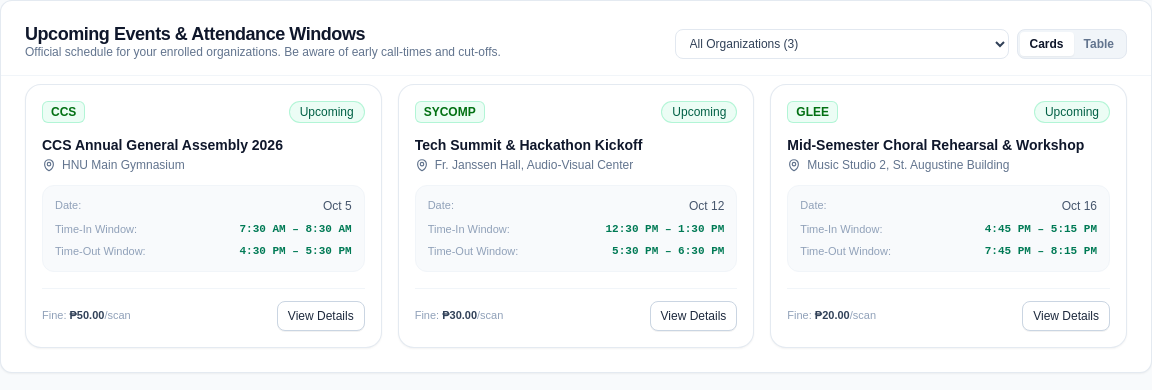
Test: StudentEventsFeed component › switches between cards and table view modes
Click the button "Table" at (1099, 44), box [1074, 32, 1124, 56]
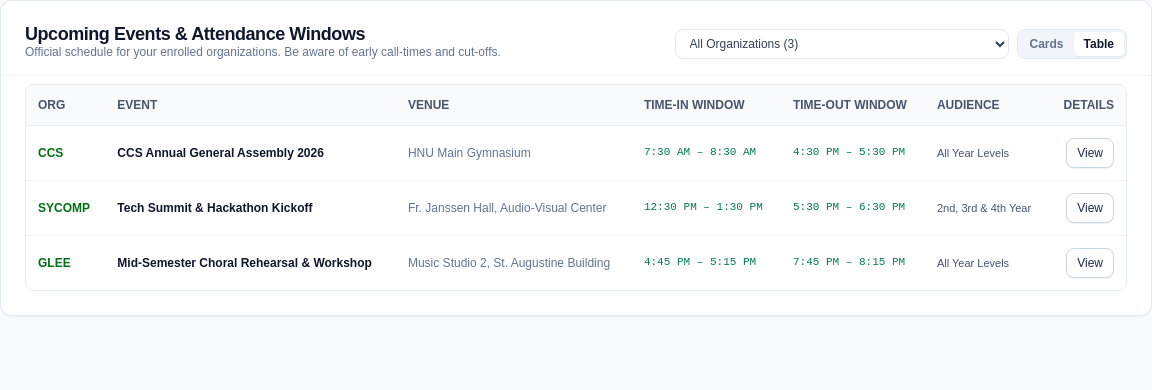
Expected: the column heading "Time-In Window" is shown, [632, 84, 781, 125]
Result: the column heading "Venue" is shown at [396, 84, 632, 125]
